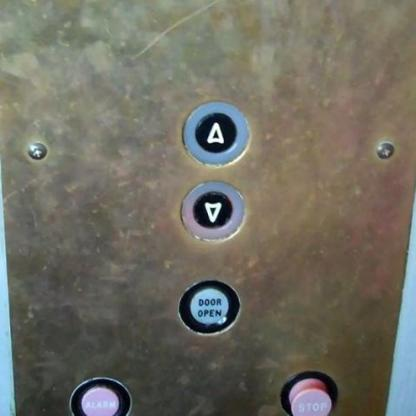down: (178, 178, 246, 244)
text_alarm bell: (66, 374, 134, 415)
text_door open: (176, 276, 243, 336)
text_stop: (277, 369, 340, 415)
up: (179, 97, 252, 169)
